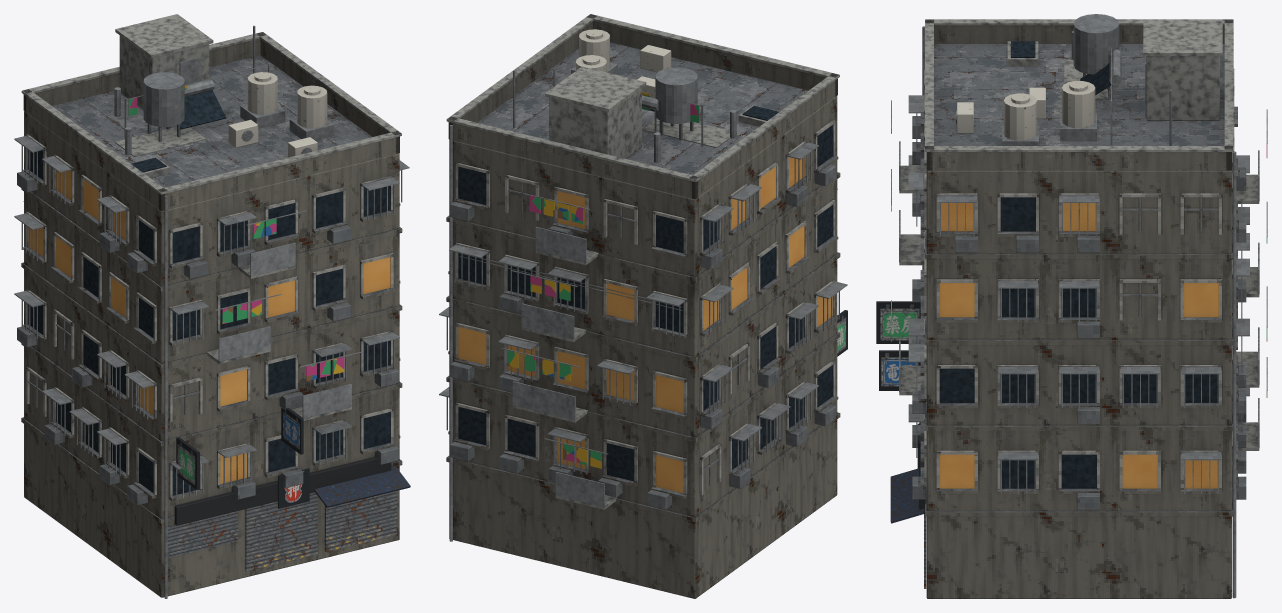
File: city_tower_lower.glb
3 renders of one model, left to right at view 1: azimuth 30°, elevation 25°; view 2: azimuth 150°, elevation 25°; view 3: azimuth 270°, elevation 25°, orthographic. The views are drawn at different scales.
Parts seen in each view (by area): view 1: city_tower_lower; view 2: city_tower_lower; view 3: city_tower_lower.
Part boxes in pixels (x1,y1,x2,y2): city_tower_lower: [14, 14, 410, 598]; city_tower_lower: [439, 14, 847, 598]; city_tower_lower: [876, 14, 1267, 598].
Size of the model in its own units: 11.19 by 18.02 by 12.81.
Materials: 18 (18 with a texture image).
